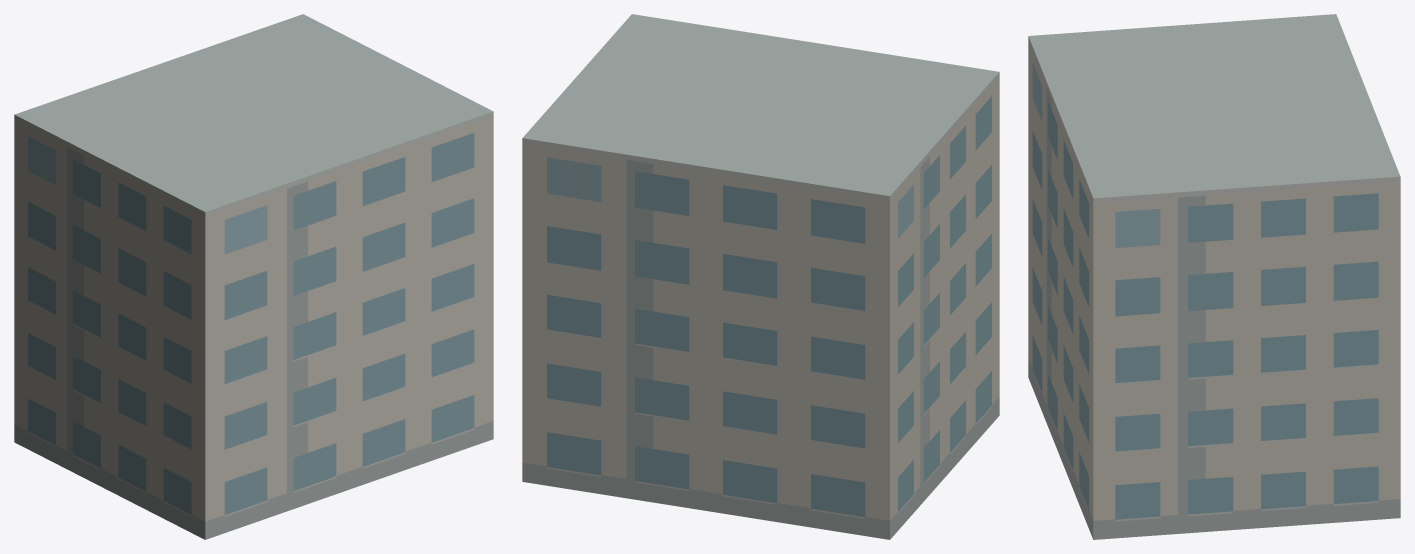
The model's file is survey-upis-32702645.glb.
The picture shows the model from 3 angles, left to right: view 1: azimuth 30°, elevation 25°; view 2: azimuth 150°, elevation 25°; view 3: azimuth 270°, elevation 25°; orthographic projection. The views are drawn at different scales.
Parts seen in each view (by area): view 1: survey-upis-32702645.tmp; view 2: survey-upis-32702645.tmp; view 3: survey-upis-32702645.tmp.
Boxes of the visible parts, box(x1,y1,x2,y2) form: survey-upis-32702645.tmp: box(14, 14, 493, 539); survey-upis-32702645.tmp: box(522, 14, 999, 539); survey-upis-32702645.tmp: box(1028, 14, 1400, 539).
Bounding box in the file's own units: 18.54 × 16 × 15.81.
